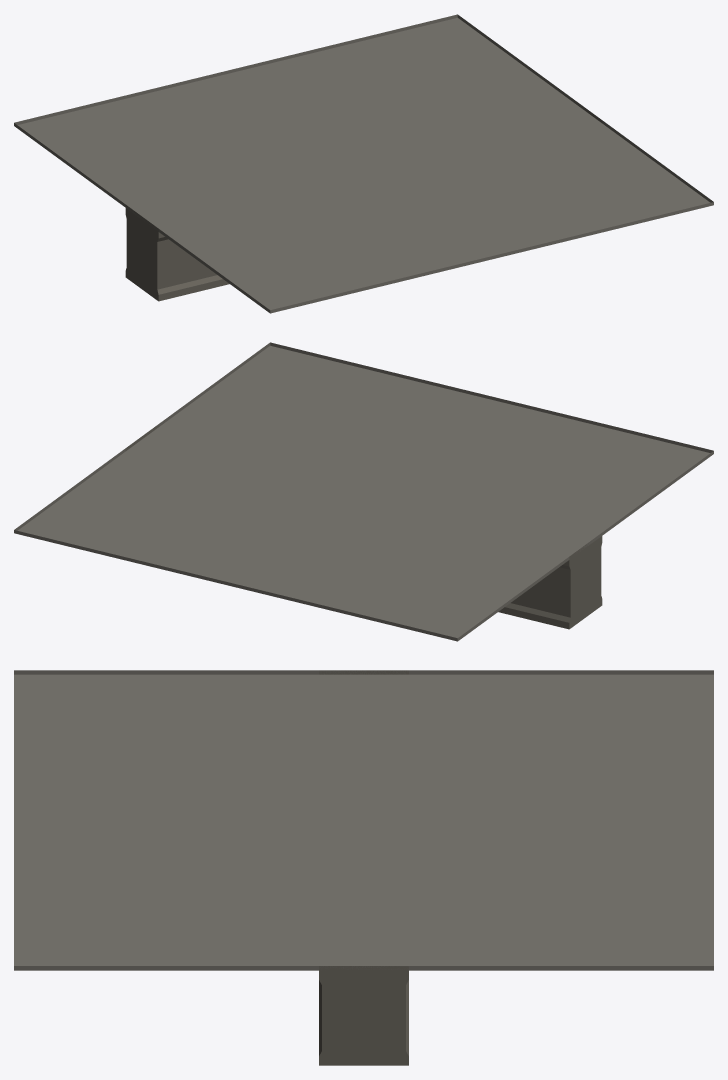
Rendered from SM_Train_Subway_Station_Roof.fbx.
3 views of the same model, one above another, from view 1: azimuth 30°, elevation 25°; view 2: azimuth 150°, elevation 25°; view 3: azimuth 270°, elevation 25° (orthographic). The views are drawn at different scales.
Visible parts, largest first — view 1: SM_Train_Subway_Station_Roof; view 2: SM_Train_Subway_Station_Roof; view 3: SM_Train_Subway_Station_Roof.
Part boxes in pixels (bbox=[...]): SM_Train_Subway_Station_Roof: bbox=[14, 14, 713, 313]; SM_Train_Subway_Station_Roof: bbox=[14, 342, 713, 641]; SM_Train_Subway_Station_Roof: bbox=[14, 670, 713, 1065].
Bounding box in the file's own units: 200 × 31.43 × 200.
